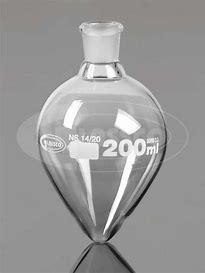Pear shaped flask: (32, 14, 169, 245)
